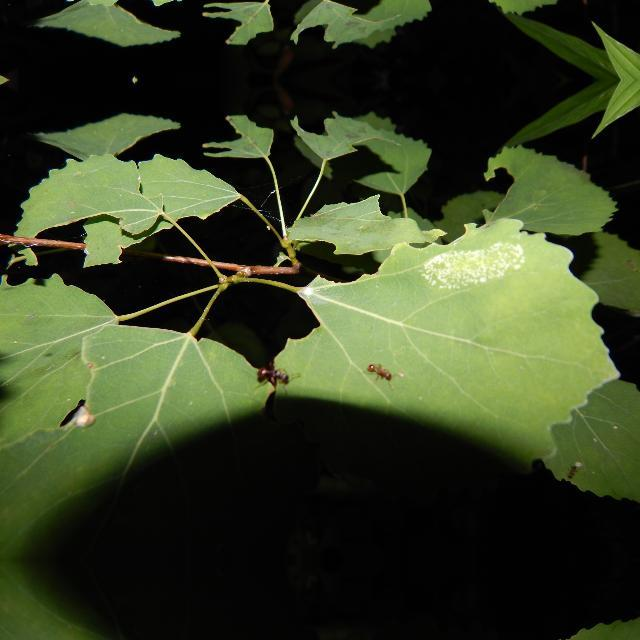Myrmica: (248, 357, 298, 389), (362, 358, 398, 386)
